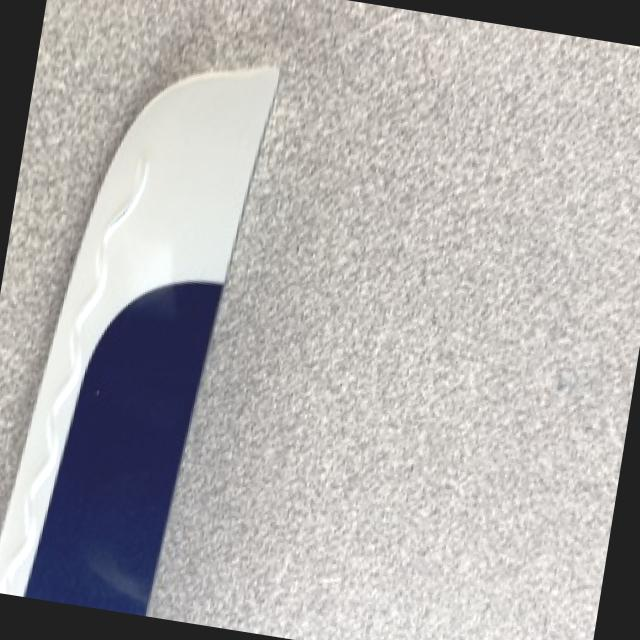healthy: (0, 67, 279, 614)
